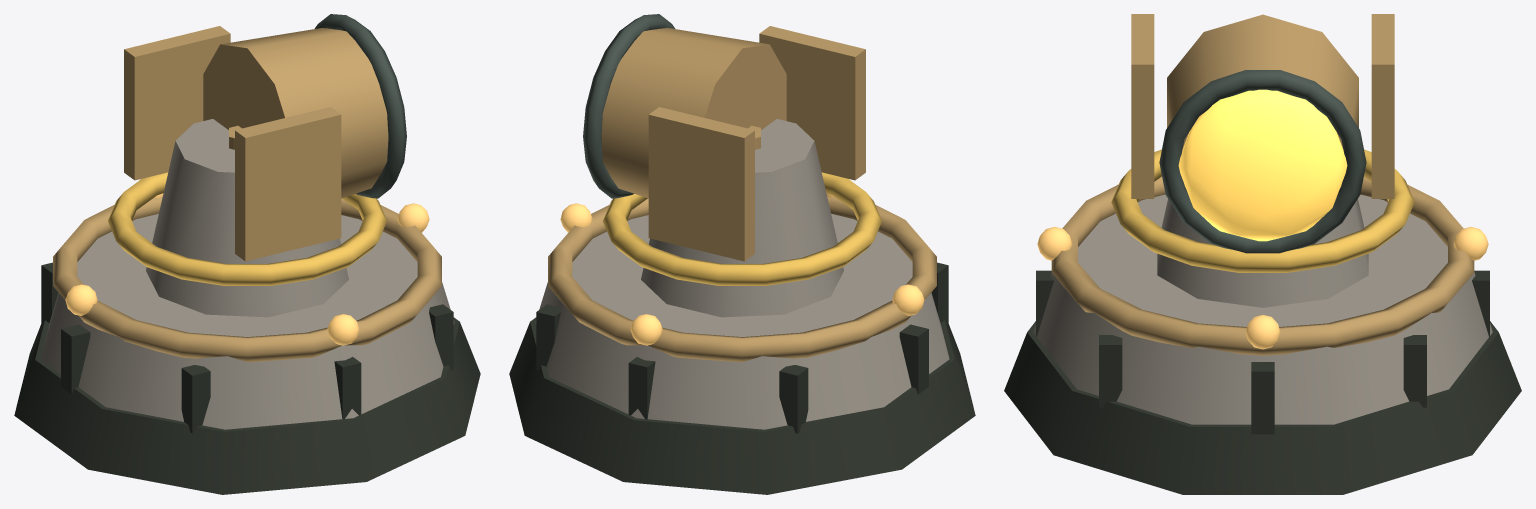
Rendered from tower_laser_laserPrism_ultimate.glb.
3 views of the same model, side by side, from view 1: azimuth 30°, elevation 25°; view 2: azimuth 150°, elevation 25°; view 3: azimuth 270°, elevation 25° (orthographic). The views are drawn at different scales.
Parts seen in each view (by area): view 1: stone_1, foot_0, lens_housing_17, column_15, cooling_fin_20, rim_2, cooling_fin_21, energized_base_22, focus_ring_18, mortar_6, mortar_7, mortar_5 (+5 smaller); view 2: stone_1, foot_0, lens_housing_17, column_15, cooling_fin_21, rim_2, cooling_fin_20, energized_base_22, focus_ring_18, mortar_8, mortar_7, mortar_9 (+5 smaller); view 3: stone_1, foot_0, lens_glass_19, rim_2, focus_ring_18, lens_housing_17, energized_base_22, column_15, cooling_fin_20, cooling_fin_21, mortar_3, mortar_4 (+6 smaller).
Part boxes in pixels (box(x1,y1,x2,y2)): stone_1: box(40, 213, 454, 429); foot_0: box(14, 317, 480, 494); lens_housing_17: box(203, 28, 388, 198); column_15: box(146, 119, 348, 317); cooling_fin_20: box(235, 107, 341, 261); rim_2: box(53, 196, 441, 362); cooling_fin_21: box(124, 26, 230, 180); energized_base_22: box(108, 172, 386, 285); focus_ring_18: box(314, 14, 406, 198); mortar_6: box(181, 365, 210, 433); mortar_7: box(61, 324, 90, 394); mortar_5: box(334, 357, 361, 419); stone_1: box(535, 213, 949, 429); foot_0: box(509, 317, 975, 494); lens_housing_17: box(601, 28, 786, 198); column_15: box(641, 119, 843, 317); cooling_fin_21: box(648, 107, 754, 261); rim_2: box(548, 196, 936, 362); cooling_fin_20: box(759, 26, 865, 180); energized_base_22: box(603, 172, 881, 285); focus_ring_18: box(583, 14, 675, 198); mortar_8: box(779, 365, 808, 433); mortar_7: box(899, 324, 928, 394); mortar_9: box(628, 357, 655, 419); stone_1: box(1033, 194, 1492, 424); foot_0: box(1004, 321, 1521, 494); lens_glass_19: box(1178, 89, 1347, 241); rim_2: box(1051, 176, 1474, 355); focus_ring_18: box(1159, 70, 1366, 253); lens_housing_17: box(1167, 14, 1358, 188); energized_base_22: box(1111, 149, 1414, 272); column_15: box(1157, 199, 1368, 307); cooling_fin_20: box(1131, 14, 1154, 198); cooling_fin_21: box(1371, 14, 1394, 198); mortar_3: box(1251, 362, 1274, 434); mortar_4: box(1099, 335, 1122, 407).
Size of the model in its own units: 0.5326 by 0.4503 by 0.56.
